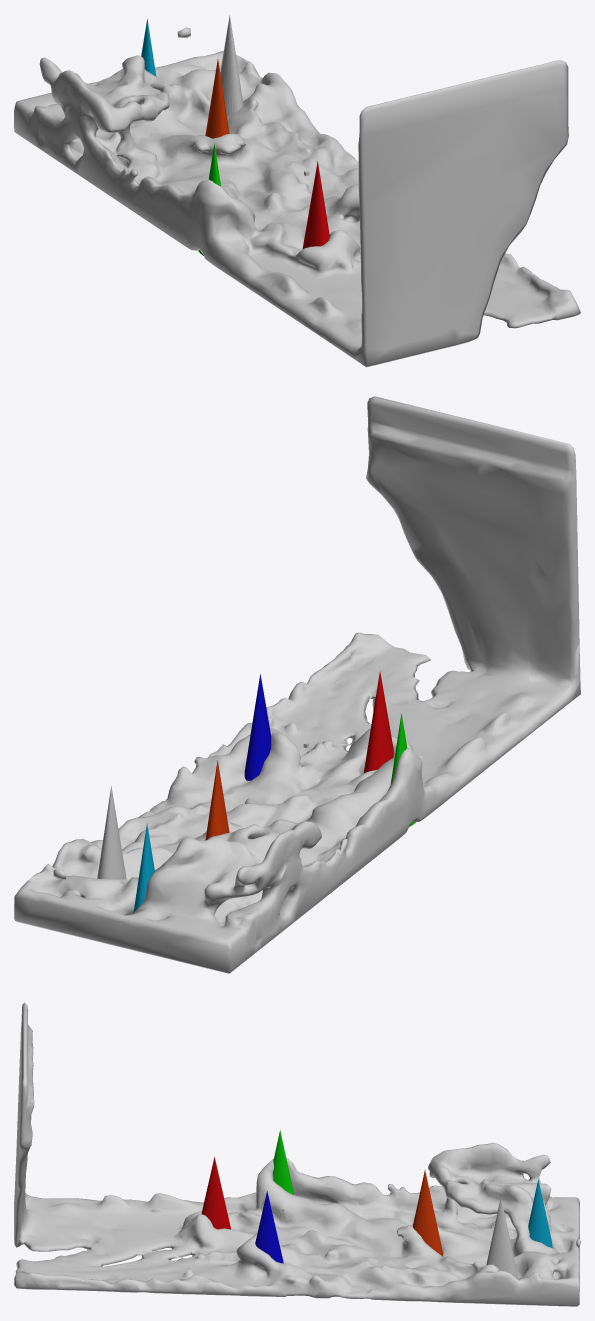
3 renders of one model, top to bottom at view 1: azimuth 30°, elevation 25°; view 2: azimuth 150°, elevation 25°; view 3: azimuth 270°, elevation 25°, orthographic. The views are drawn at different scales.
Parts seen in each view (by area): view 1: Liquid_Domain, 円錐, 円錐.001, 円錐.004; view 2: Liquid_Domain, 円錐.001, 円錐.002, 円錐, 円錐.004, 円錐.005; view 3: Liquid_Domain, 円錐, 円錐.004, 円錐.001, 円錐.002, 円錐.005, 円錐.003.
Part boxes in pixels (x1,y1,x2,y2): Liquid_Domain: (14, 27, 580, 367); 円錐: (220, 15, 243, 117); 円錐.001: (302, 161, 329, 249); 円錐.004: (205, 59, 229, 138); Liquid_Domain: (14, 396, 580, 973); 円錐.001: (363, 671, 393, 773); 円錐.002: (244, 674, 271, 780); 円錐: (97, 786, 126, 879); 円錐.004: (205, 760, 229, 840); 円錐.005: (133, 823, 154, 913); Liquid_Domain: (14, 1002, 580, 1306); 円錐: (486, 1198, 518, 1279); 円錐.004: (412, 1170, 442, 1255); 円錐.001: (201, 1157, 230, 1229); 円錐.002: (255, 1191, 283, 1263); 円錐.005: (528, 1179, 552, 1248); 円錐.003: (273, 1130, 293, 1194).
Size of the model in its own units: 129 by 157 by 362.
